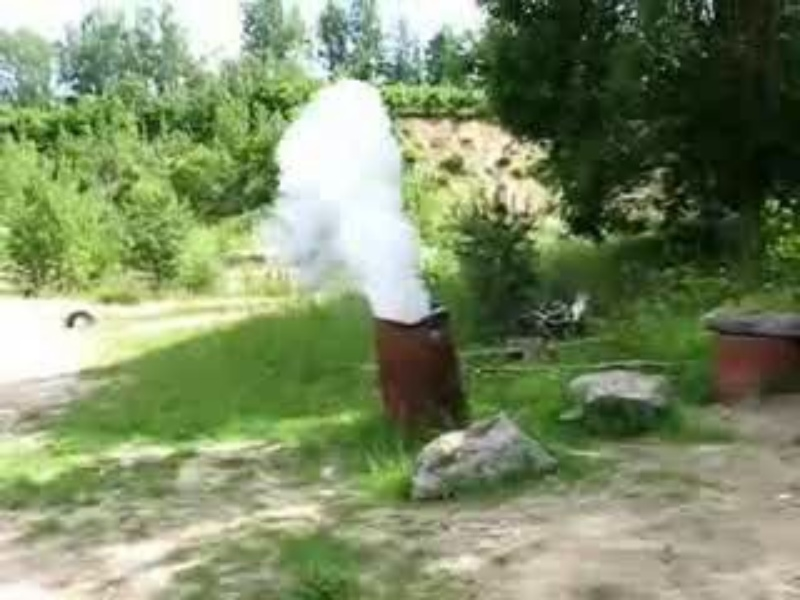smoke: (280, 91, 420, 317)
